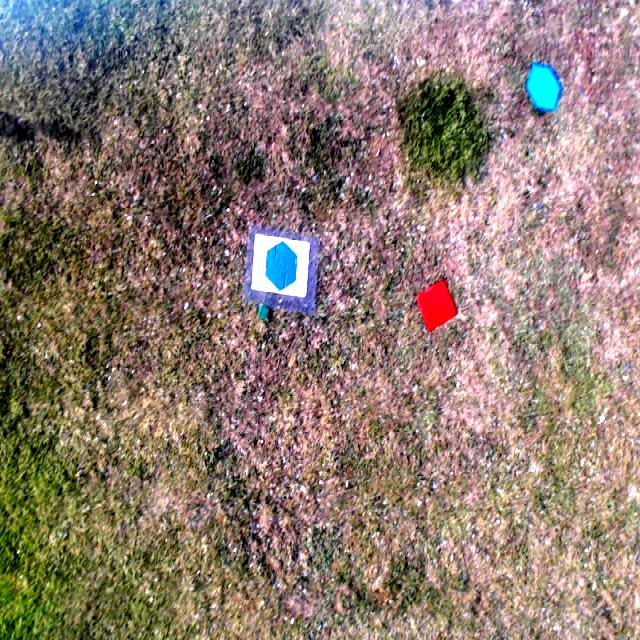blue_hexagon: (524, 62, 562, 112), (266, 238, 298, 295)
red_square: (415, 279, 458, 334)
